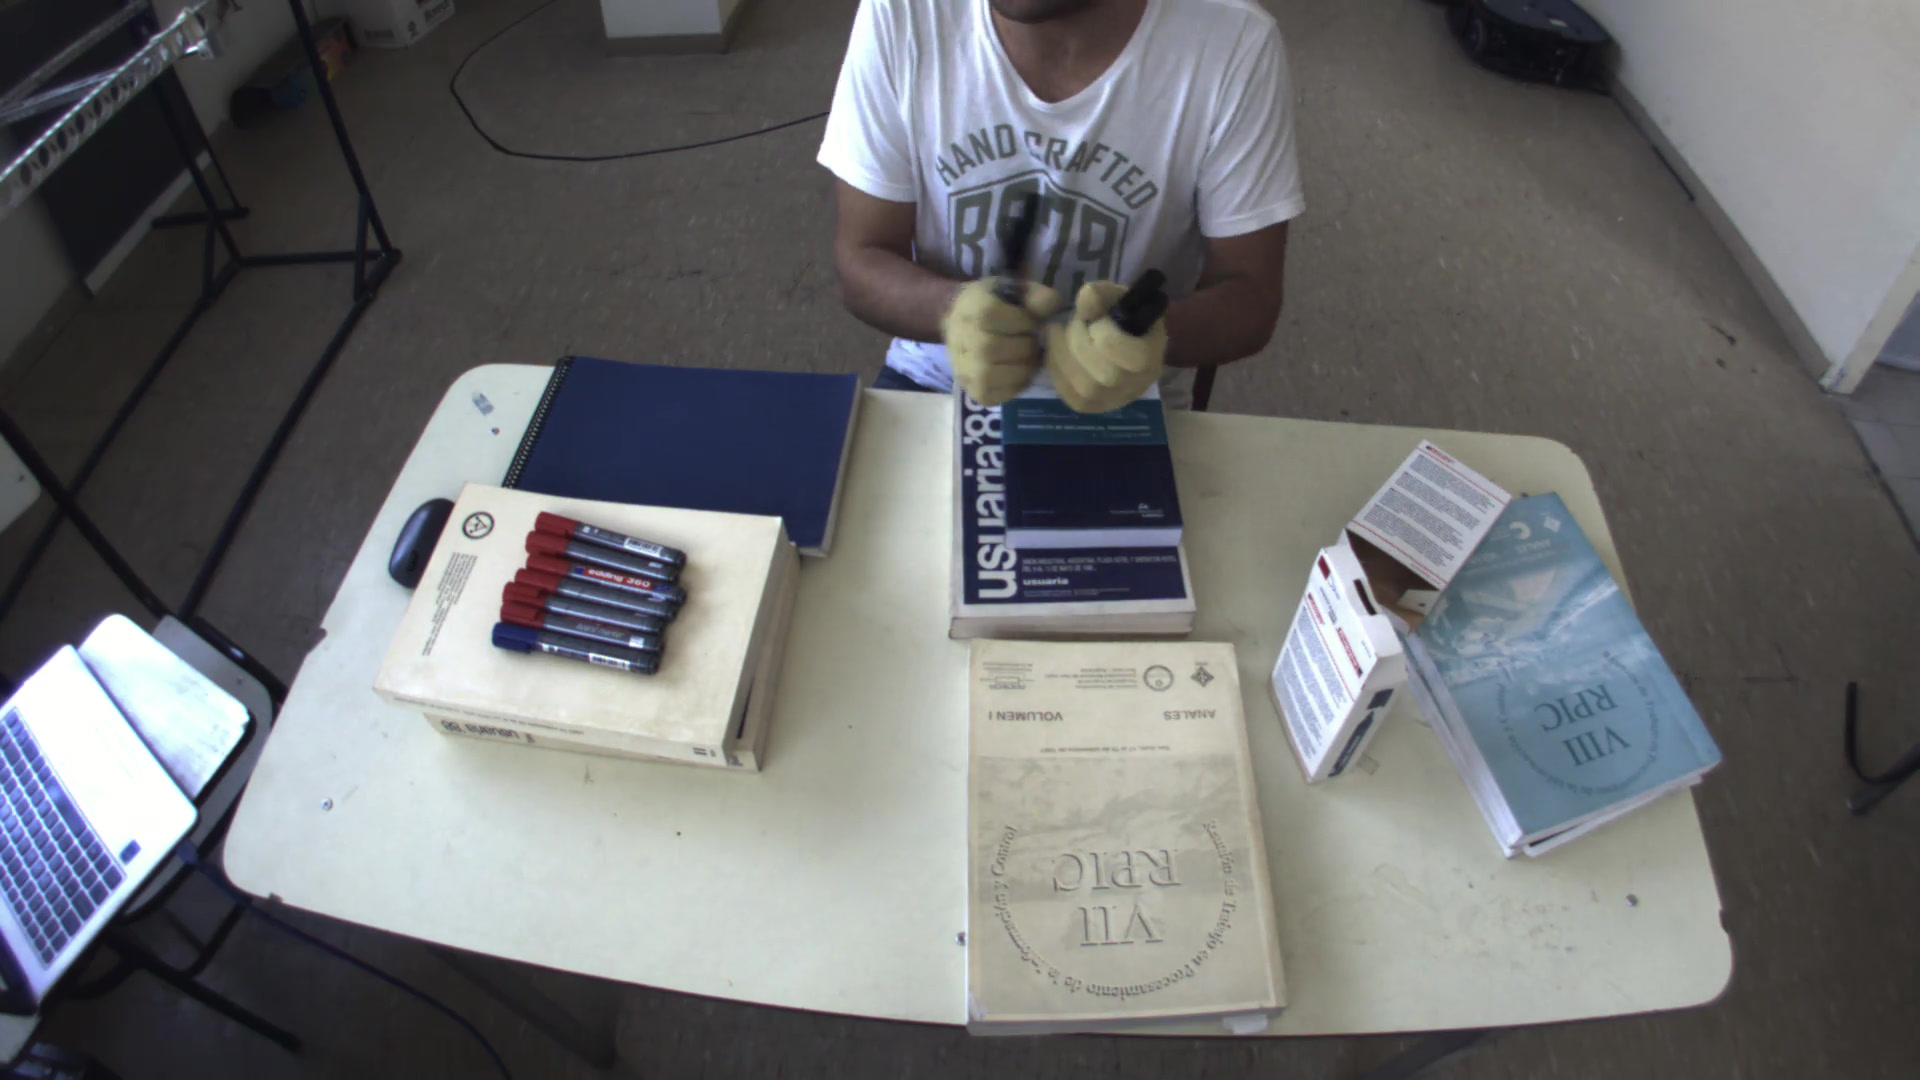hand: (938, 257, 1052, 429), (1052, 280, 1180, 431)
